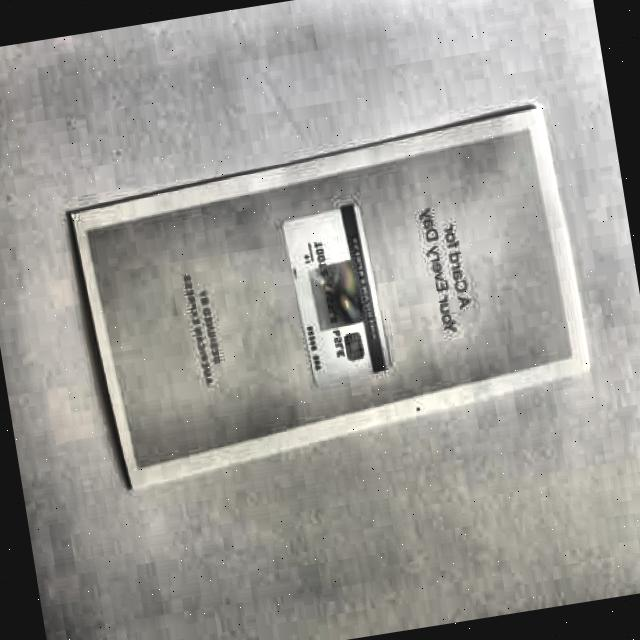paper: (66, 96, 597, 500)
